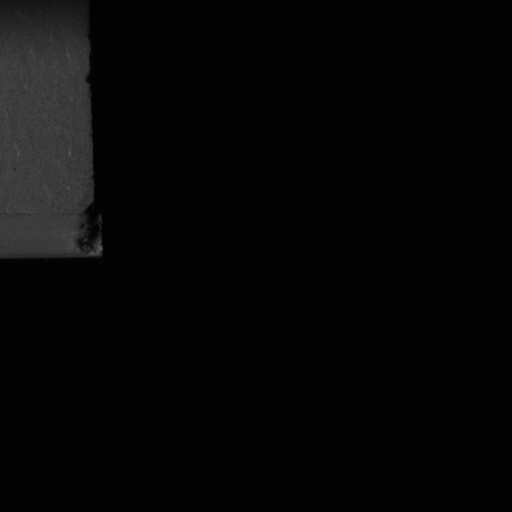bengque: (76, 198, 105, 259)
